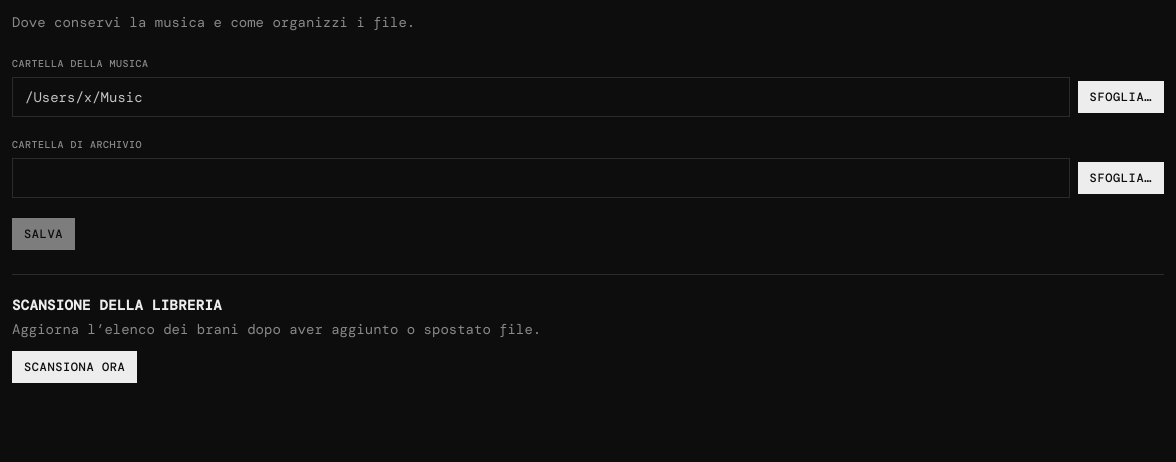
Test: ConfigCard + picker › errore del picker mostrato nel banner della card
Step 1. Click the 1st button "Sfoglia…" → (1121, 97), box [1078,81,1164,113]
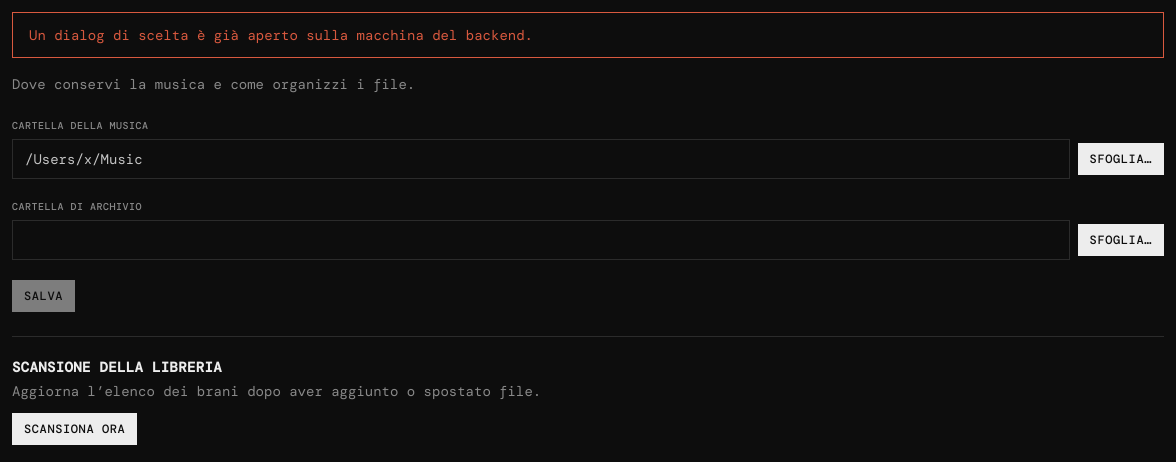
Result: the text "Un dialog di scelta è già aperto sulla macchina del backend." is shown at [12,12,1164,58]
